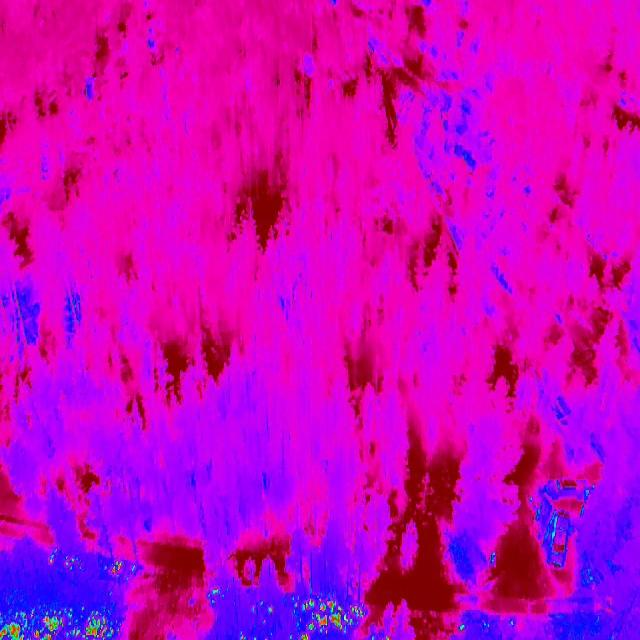fire: (237, 595, 394, 640), (2, 608, 112, 640), (49, 552, 124, 578), (206, 580, 231, 610)
